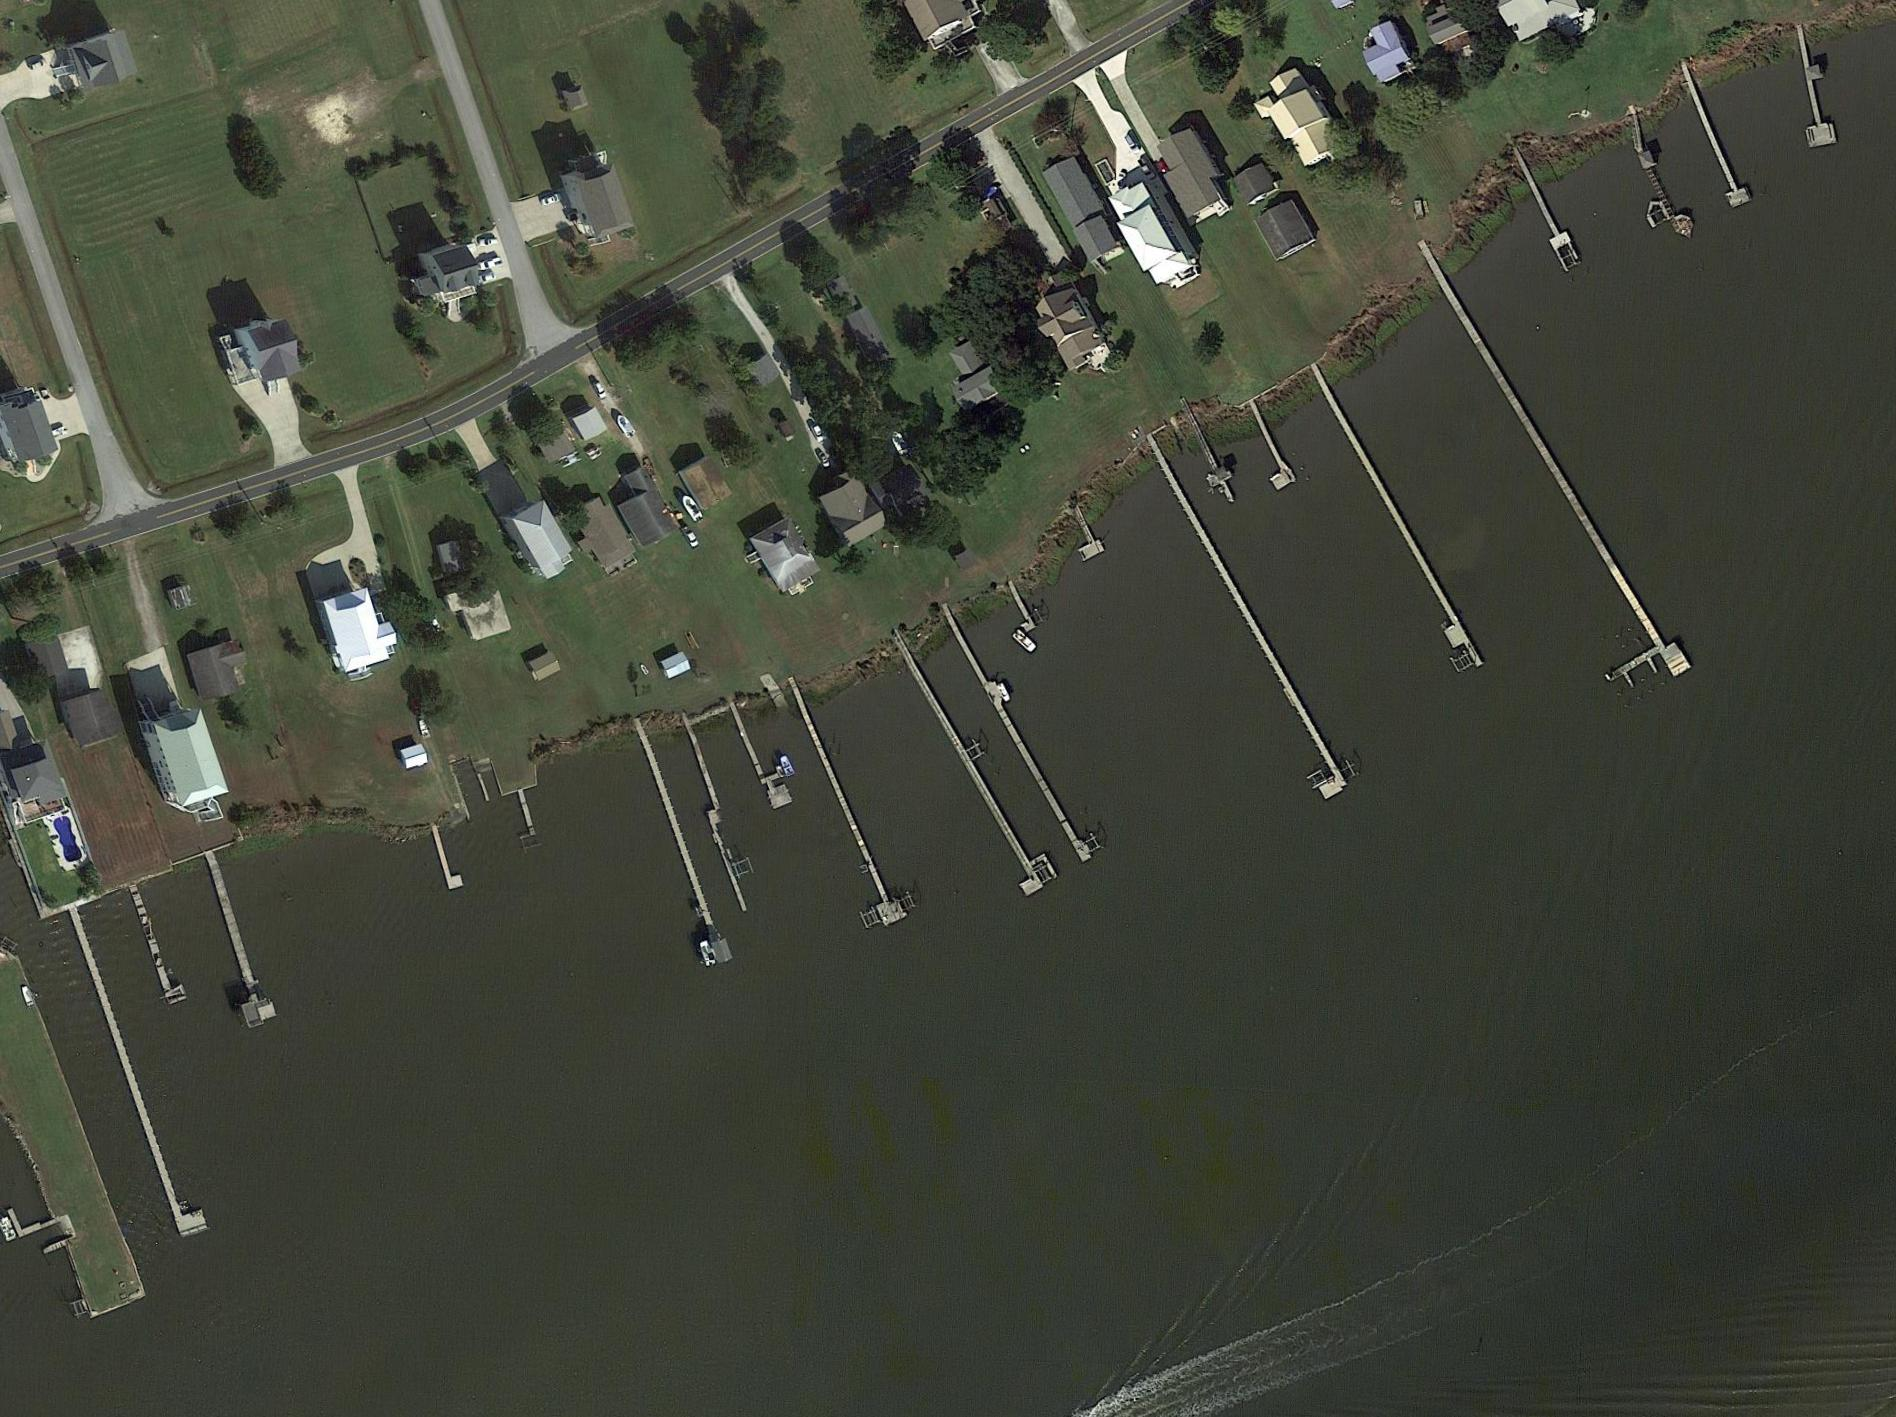harbor: (1426, 310, 1692, 708), (1170, 511, 1350, 801), (1316, 394, 1484, 676), (70, 902, 208, 1238), (891, 647, 1060, 898), (955, 627, 1097, 863), (786, 686, 909, 927), (635, 732, 734, 967), (679, 726, 759, 912), (195, 851, 278, 1030), (1612, 128, 1701, 253), (1677, 71, 1753, 211), (129, 883, 188, 1006), (1518, 165, 1583, 272), (732, 704, 795, 813), (1790, 28, 1838, 149), (1183, 414, 1243, 508), (1243, 415, 1298, 493), (1066, 511, 1107, 563), (432, 826, 464, 892), (7, 1197, 55, 1238), (1005, 589, 1039, 636), (516, 790, 539, 838)
ship: (677, 493, 707, 525), (1011, 627, 1039, 655), (612, 412, 637, 441), (888, 430, 912, 458), (699, 938, 716, 967), (555, 452, 582, 470), (778, 755, 796, 778), (19, 984, 36, 1008), (996, 682, 1012, 703), (417, 717, 432, 740), (638, 662, 650, 677)
